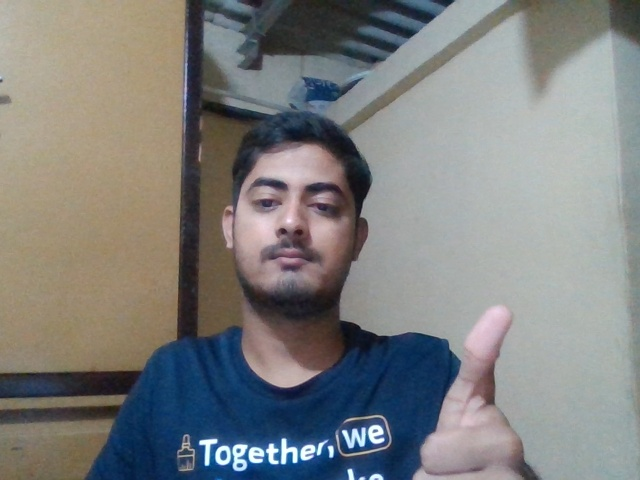ThumbsUp: (411, 306, 524, 480)
